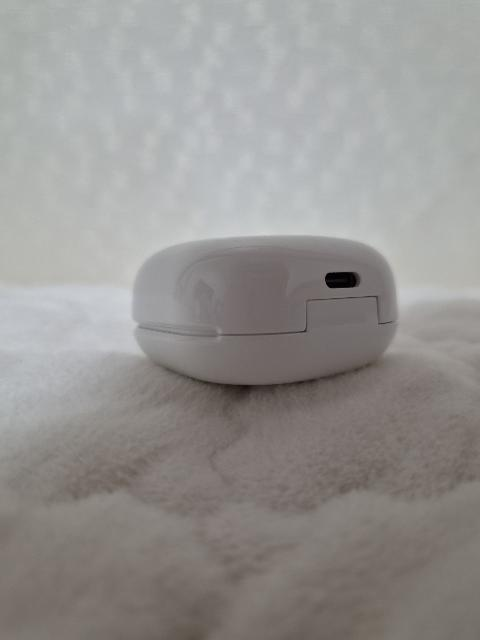earphone_case: (132, 236, 399, 385)
